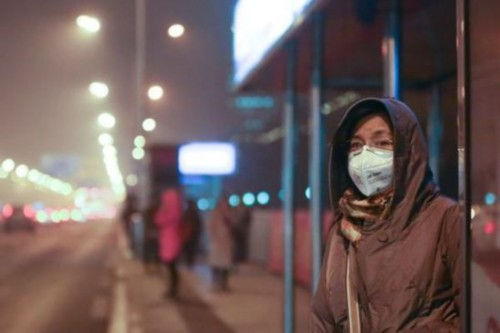face_mask: (347, 110, 396, 195)
